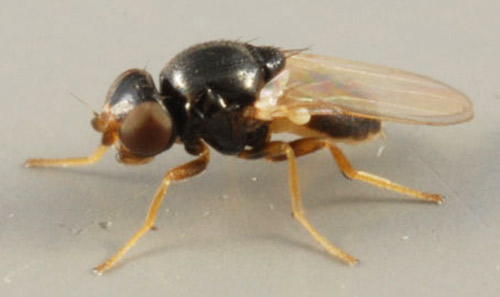phorid fly: (15, 25, 475, 287)
